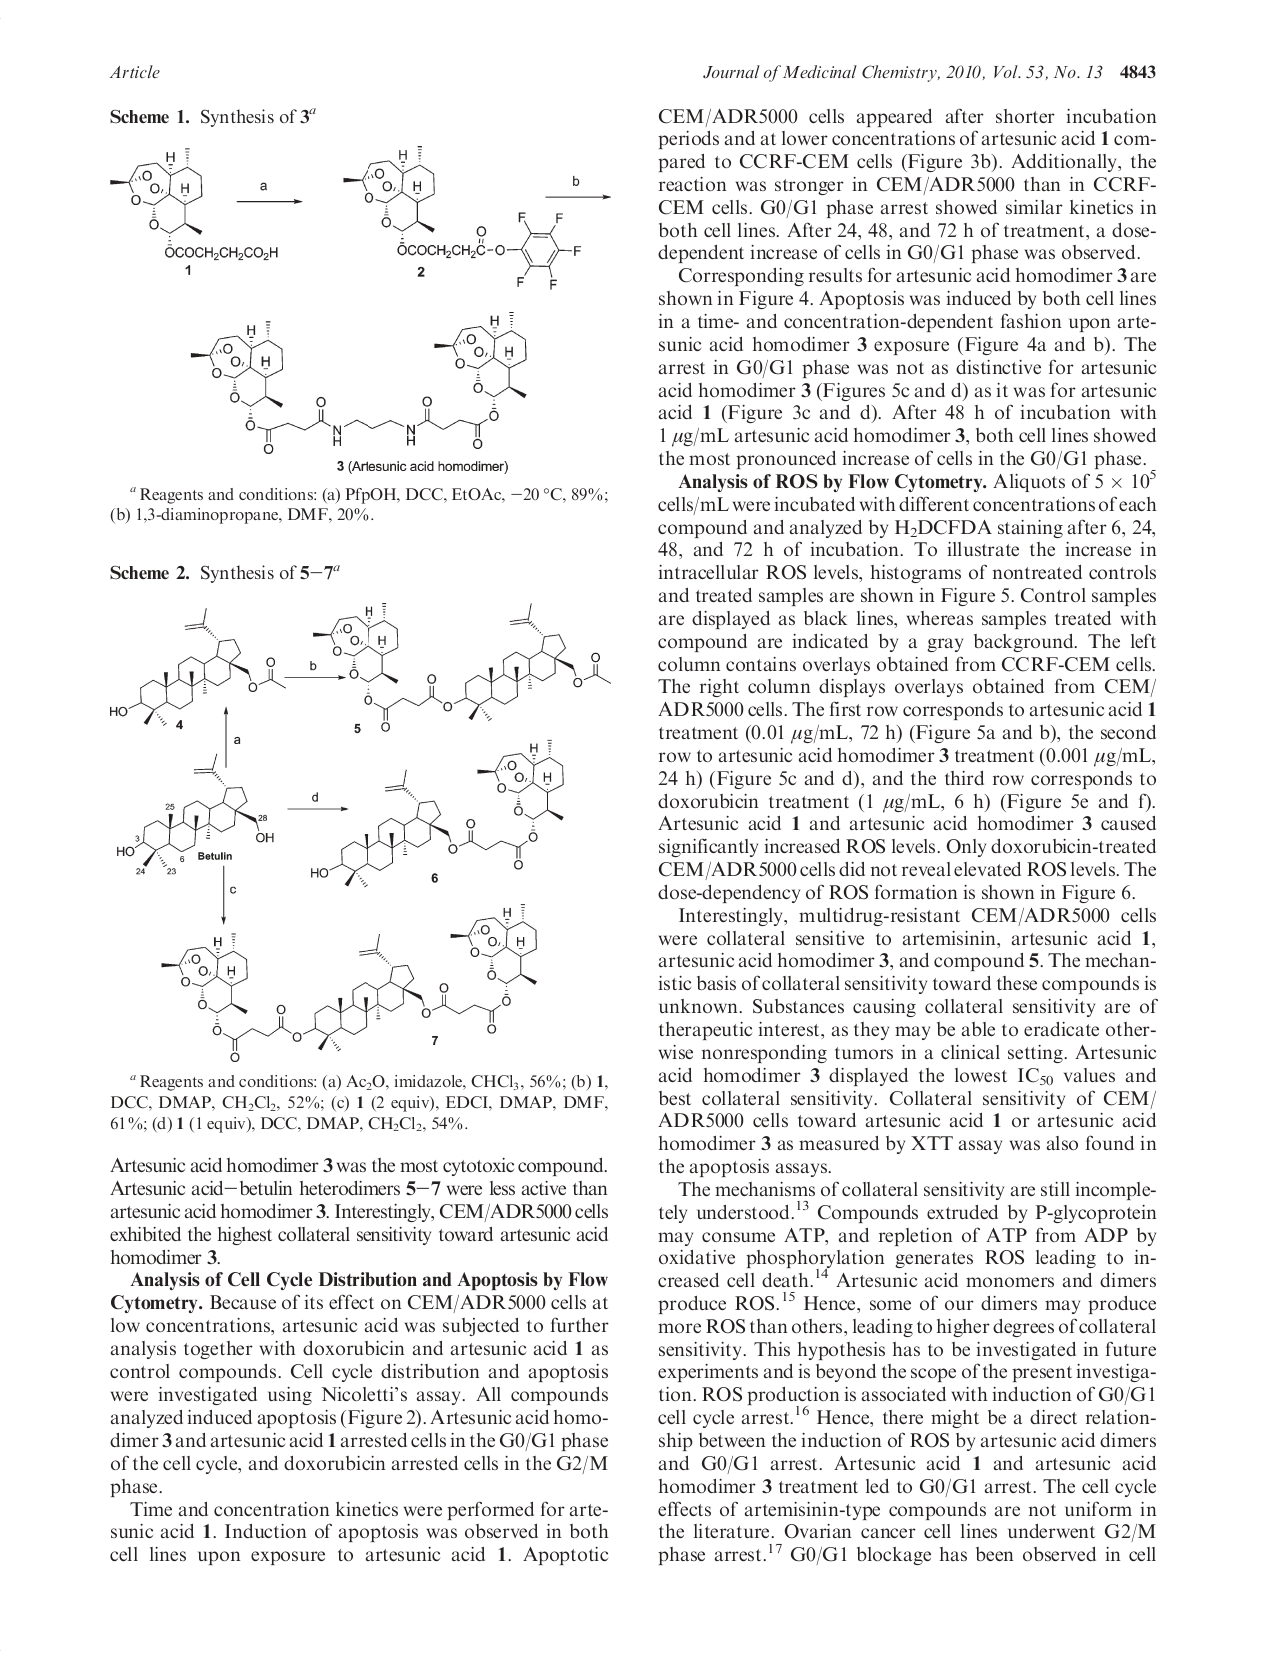exist_molecular: (160, 900, 543, 1064), (188, 313, 531, 455), (313, 597, 610, 733), (307, 737, 570, 888), (336, 144, 582, 293), (106, 604, 289, 733), (114, 751, 277, 878), (106, 146, 281, 263)
